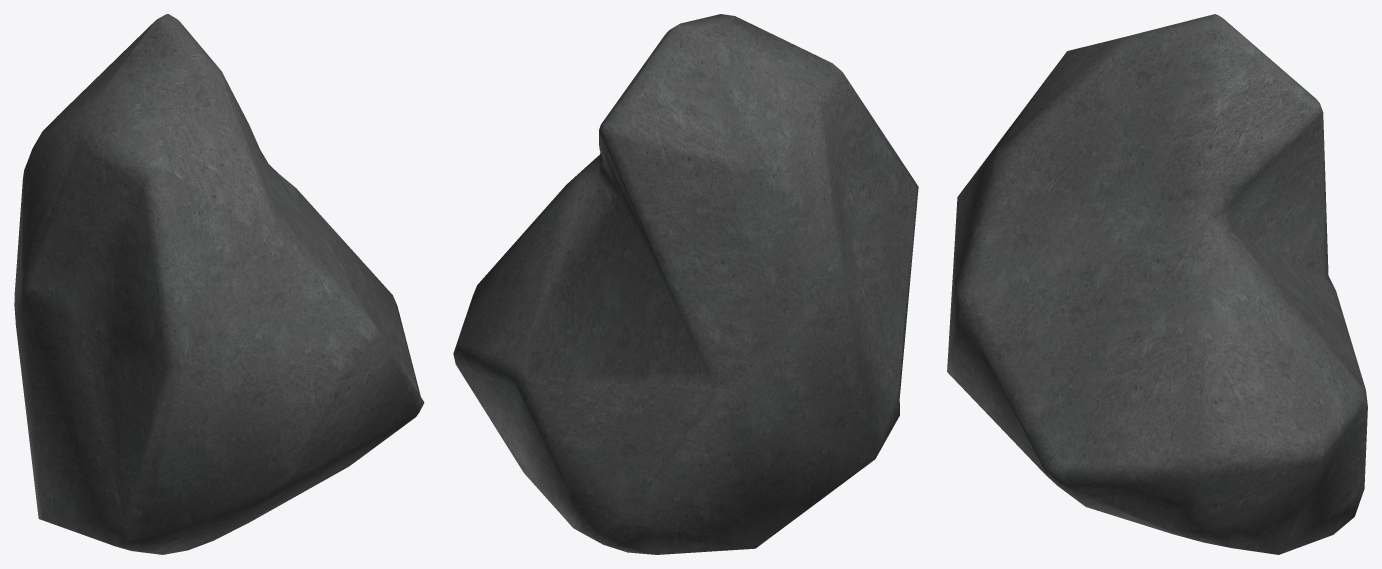
The model's file is rock.014.obj.
The picture shows the model from 3 angles, left to right: view 1: azimuth 30°, elevation 25°; view 2: azimuth 150°, elevation 25°; view 3: azimuth 270°, elevation 25°; orthographic projection. The views are drawn at different scales.
Bounding box in the file's own units: 2.97 × 3.72 × 2.81.
1 material, 1 textured.
